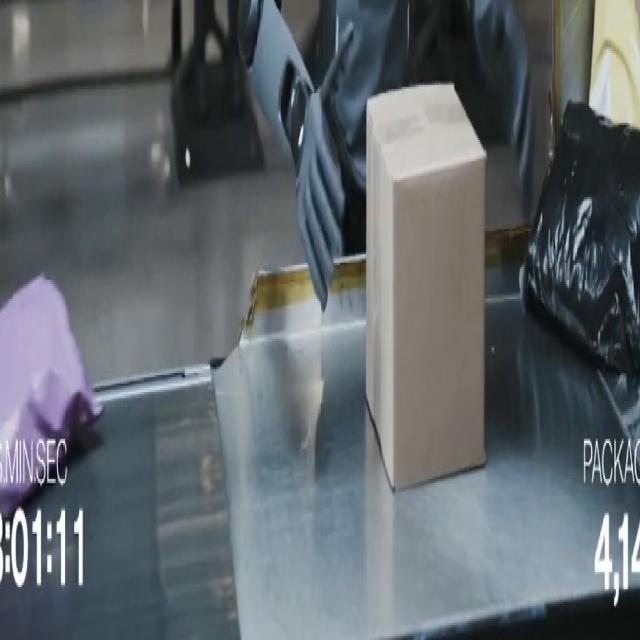package: (366, 85, 485, 489), (521, 102, 639, 375), (0, 276, 101, 517), (589, 0, 639, 127)
